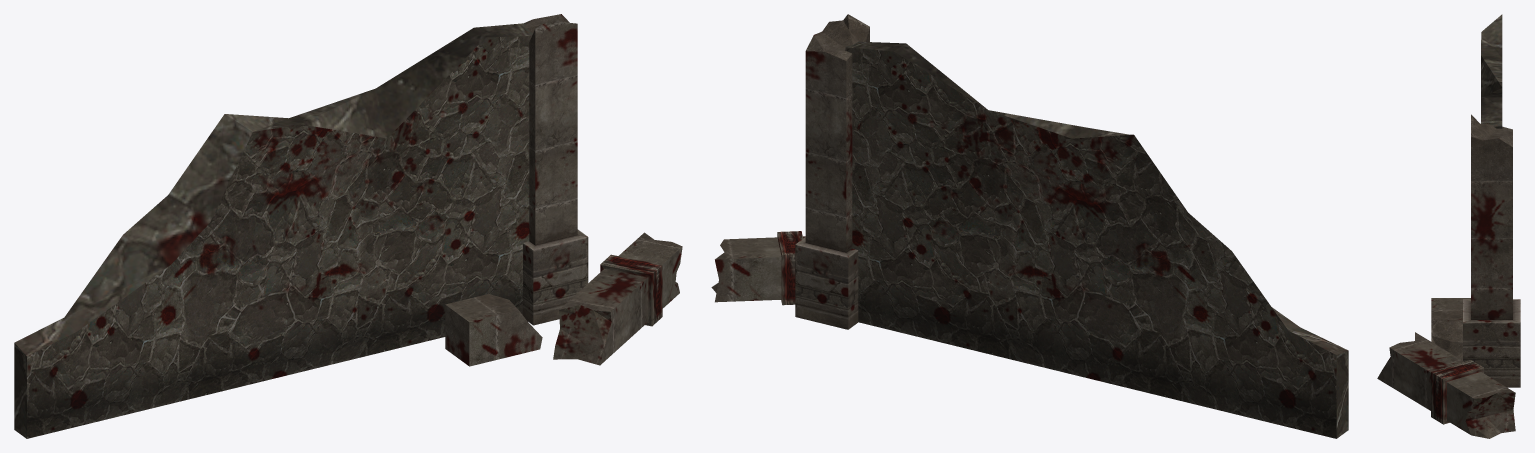
File: blsd_shiqiang_05.FBX
3 renders of one model, left to right at view 1: azimuth 30°, elevation 25°; view 2: azimuth 150°, elevation 25°; view 3: azimuth 270°, elevation 25°, orthographic. The views are drawn at different scales.
Parts seen in each view (by area): view 1: blsd_shiqiang_05; view 2: blsd_shiqiang_05; view 3: blsd_shiqiang_05.
Part boxes in pixels (<box>): blsd_shiqiang_05: <box>14,14,682,438</box>; blsd_shiqiang_05: <box>711,14,1348,438</box>; blsd_shiqiang_05: <box>1377,14,1520,438</box>.
Size of the model in its own units: 667 by 303 by 146.
